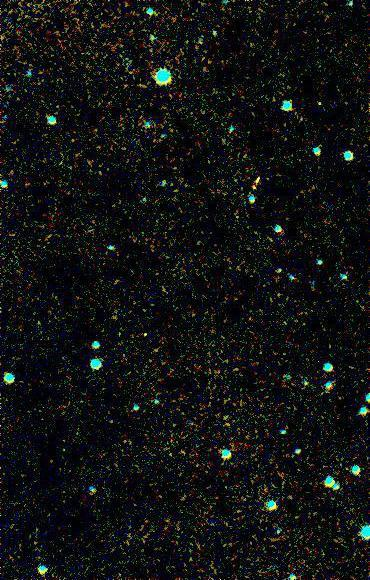star: (131, 317, 161, 347)
